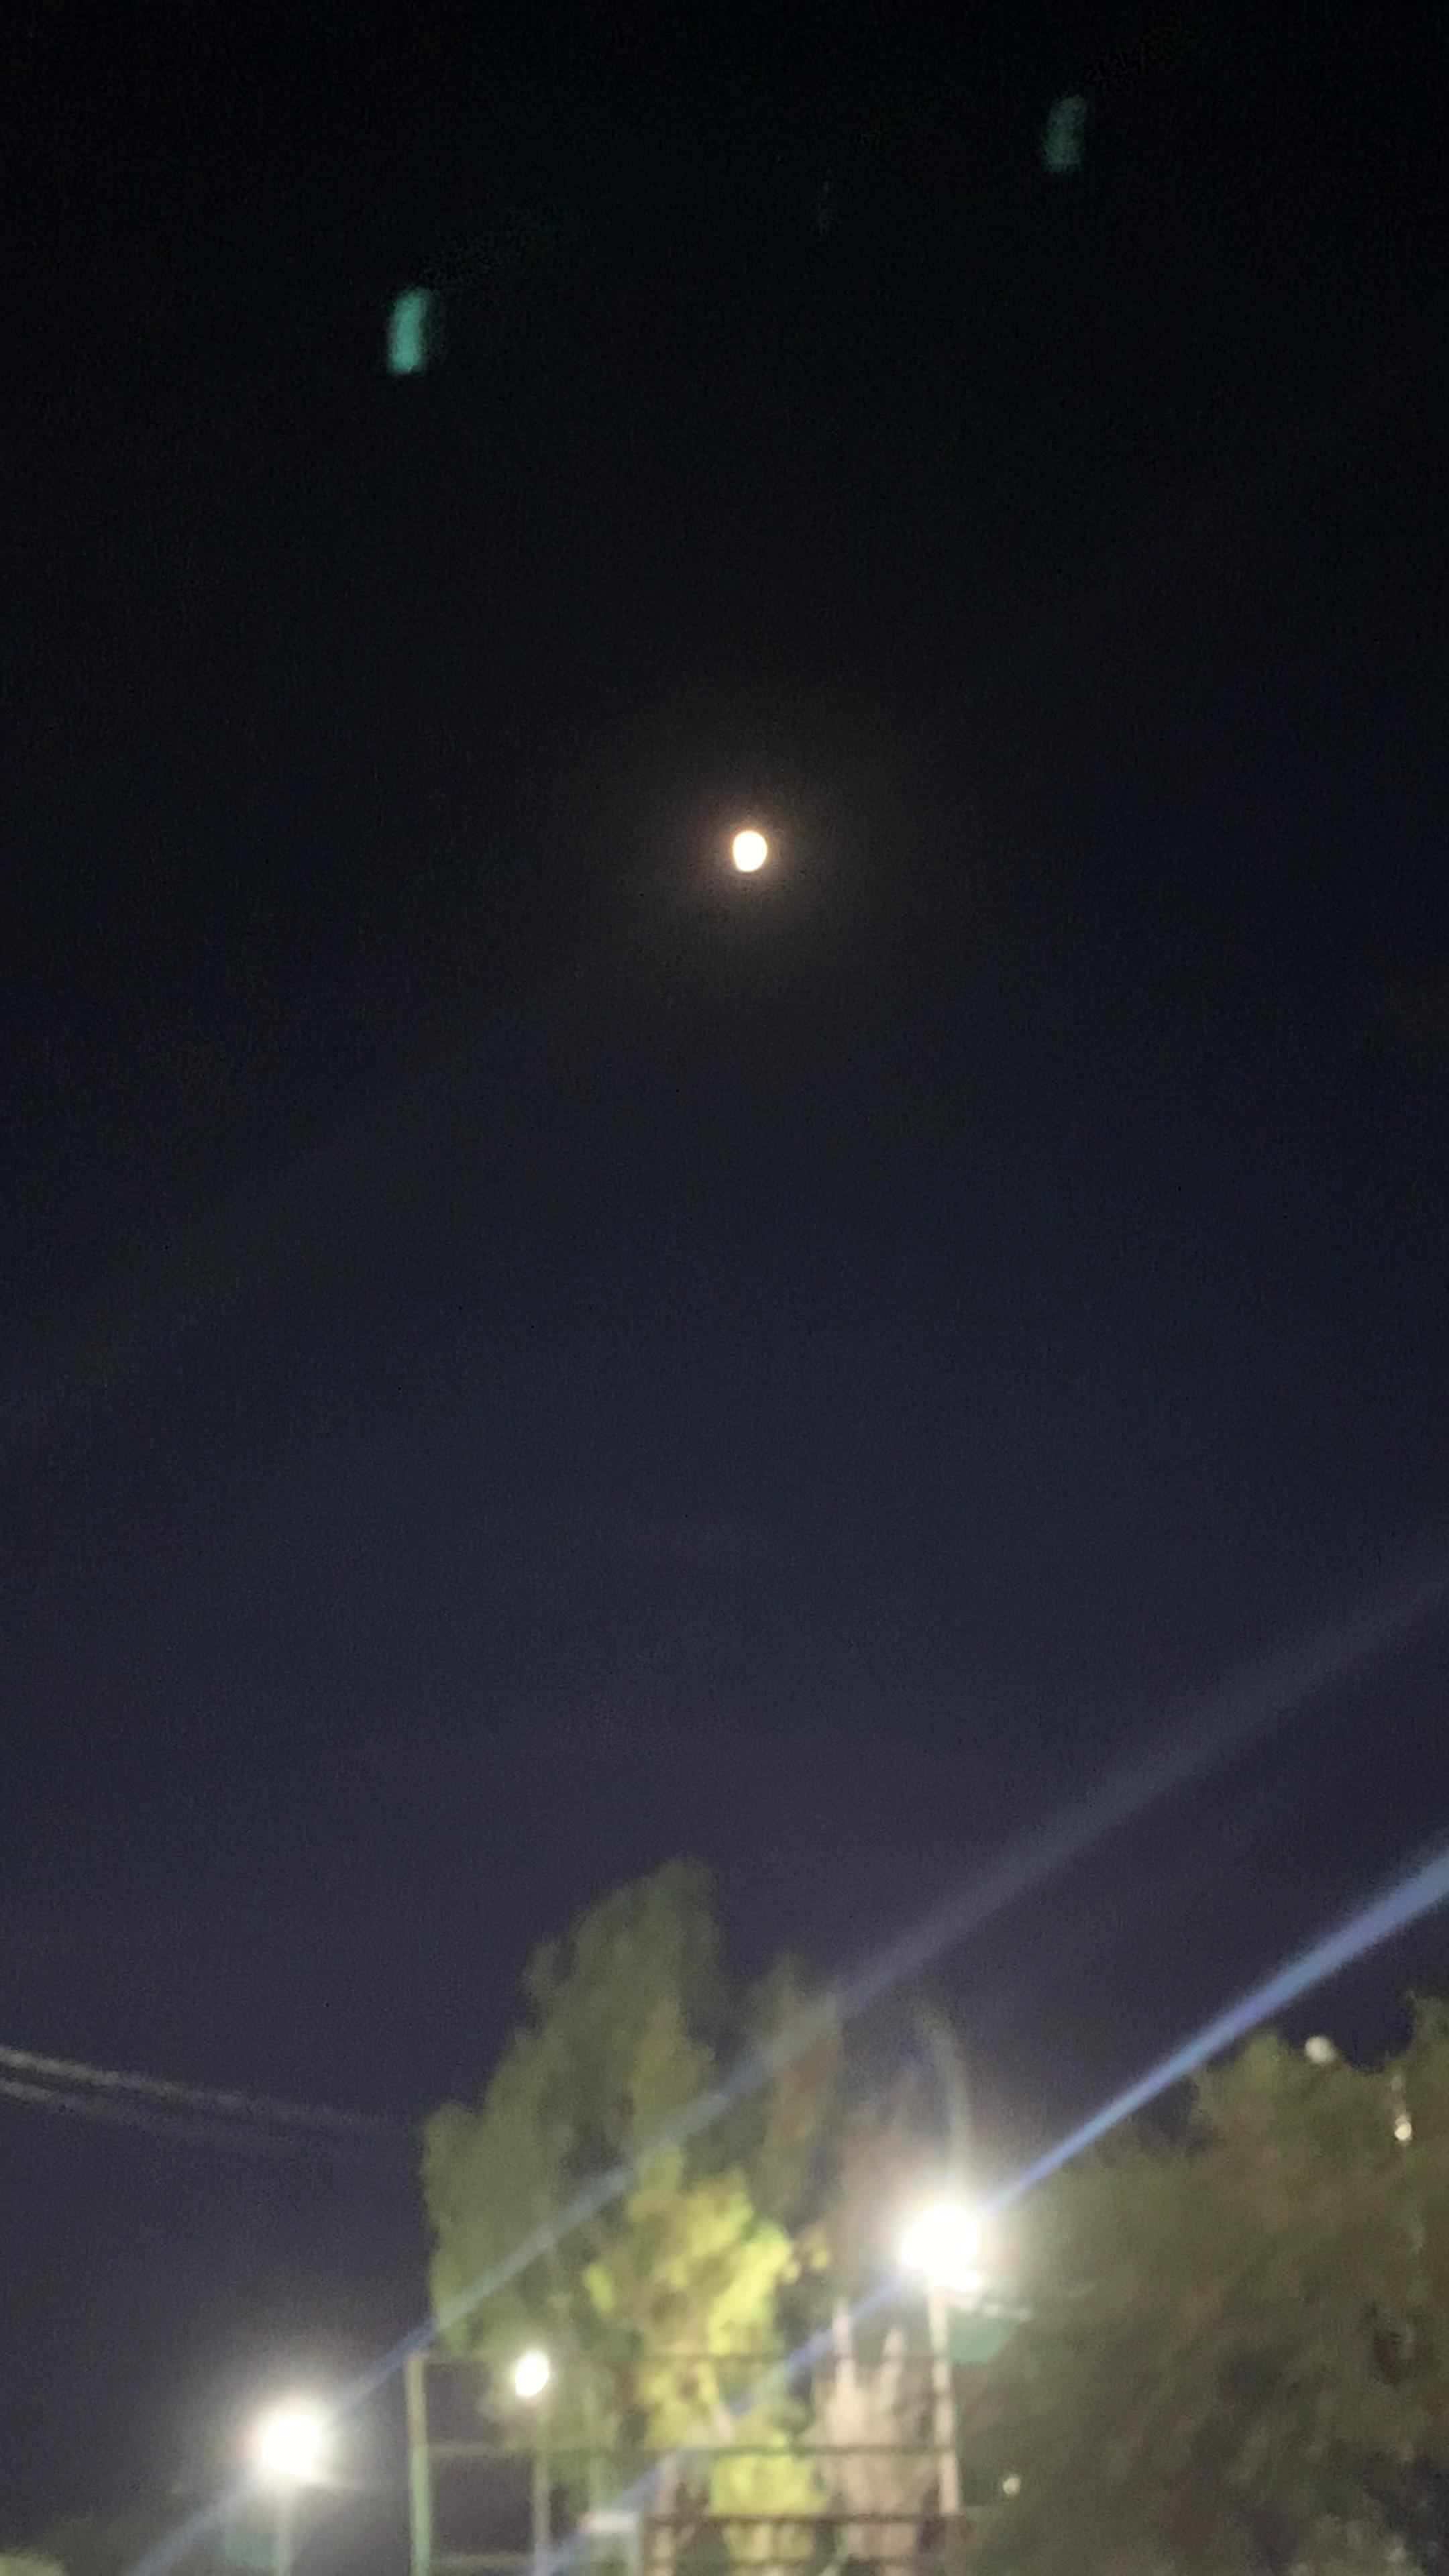moon: (692, 789, 819, 902)
